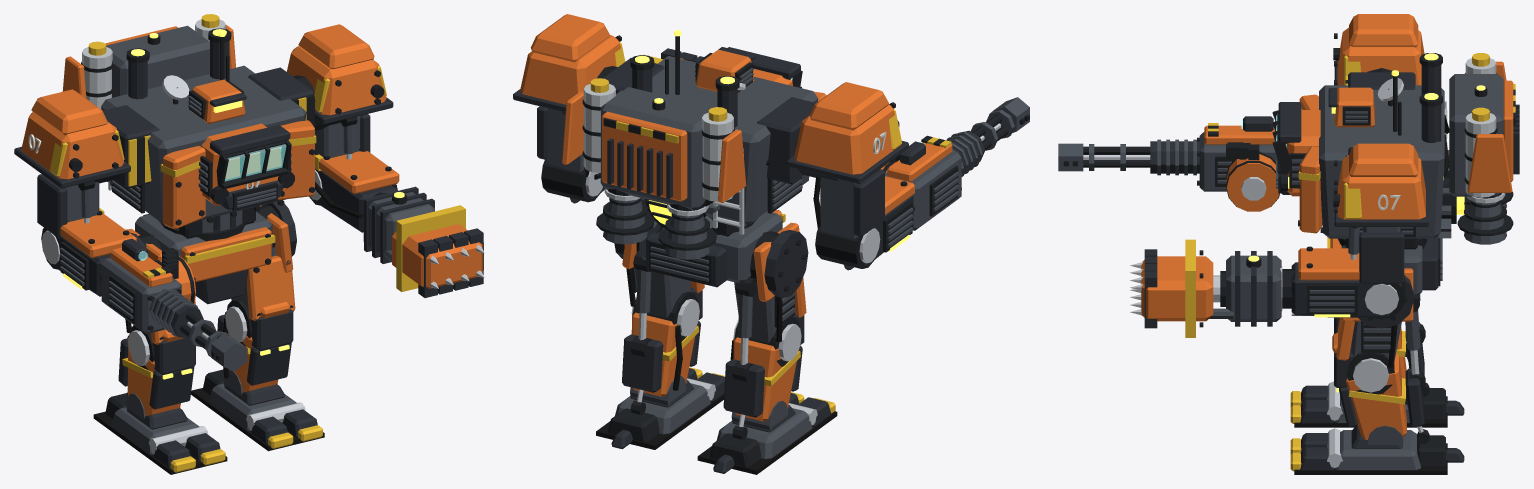
The model's file is mech_mk1_assembled.glb.
3 views of the same model, side by side, from view 1: azimuth 30°, elevation 25°; view 2: azimuth 150°, elevation 25°; view 3: azimuth 270°, elevation 25° (orthographic). The views are drawn at different scales.
Parts seen in each view (by area): view 1: core, pack_body, armor_pauldron_R, armor_pauldron_L, ram_fist, armor_chest_R, armor_pelvis, armor_pauldron_top_R, armor_pauldron_top_L, armor_forearm_L, armor_thigh_L, armor_forearm_R (+63 smaller); view 2: core, pack_body, armor_pauldron_R, armor_pack_cover, armor_pauldron_L, shoulder_block_R, armor_pauldron_top_R, armor_pauldron_top_L, pack_fins, pelvis, hip_servo_R, shin_R (+50 smaller); view 3: core, ram_fist, pack_body, armor_pauldron_L, ram_housing, armor_bicep_L, armor_pauldron_R, armor_pauldron_top_L, foot_L, armor_pauldron_top_R, fin_L, shin_L (+48 smaller).
Boxes of the visible parts, x1=… form: core: x1=101, y1=65, x2=306, y2=227; pack_body: x1=106, y1=25, x2=209, y2=97; armor_pauldron_R: x1=21, y1=112, x2=124, y2=179; armor_pauldron_L: x1=286, y1=46, x2=386, y2=115; ram_fist: x1=392, y1=224, x2=483, y2=288; armor_chest_R: x1=163, y1=146, x2=205, y2=229; armor_pelvis: x1=181, y1=227, x2=271, y2=282; armor_pauldron_top_R: x1=31, y1=89, x2=107, y2=135; armor_pauldron_top_L: x1=298, y1=24, x2=374, y2=68; armor_forearm_L: x1=319, y1=151, x2=399, y2=194; armor_thigh_L: x1=246, y1=255, x2=295, y2=321; armor_forearm_R: x1=60, y1=213, x2=136, y2=258; core: x1=616, y1=56, x2=818, y2=225; pack_body: x1=600, y1=87, x2=712, y2=210; armor_pauldron_R: x1=794, y1=104, x2=901, y2=174; armor_pack_cover: x1=602, y1=111, x2=687, y2=201; armor_pauldron_L: x1=520, y1=35, x2=620, y2=104; shoulder_block_R: x1=757, y1=97, x2=815, y2=184; armor_pauldron_top_R: x1=809, y1=82, x2=888, y2=130; armor_pauldron_top_L: x1=530, y1=14, x2=610, y2=62; pack_fins: x1=607, y1=138, x2=672, y2=198; pelvis: x1=639, y1=211, x2=782, y2=283; hip_servo_R: x1=764, y1=230, x2=808, y2=297; shin_R: x1=733, y1=337, x2=798, y2=421; core: x1=1319, y1=85, x2=1444, y2=238; ram_fist: x1=1141, y1=256, x2=1213, y2=321; pack_body: x1=1449, y1=74, x2=1503, y2=196; armor_pauldron_L: x1=1337, y1=155, x2=1425, y2=219; ram_housing: x1=1226, y1=255, x2=1281, y2=321; armor_bicep_L: x1=1359, y1=232, x2=1404, y2=283; armor_pauldron_R: x1=1337, y1=27, x2=1424, y2=85; armor_pauldron_top_L: x1=1349, y1=143, x2=1418, y2=177; foot_L: x1=1334, y1=430, x2=1420, y2=470; armor_pauldron_top_R: x1=1349, y1=14, x2=1418, y2=47; fin_L: x1=1467, y1=134, x2=1512, y2=192; shin_L: x1=1345, y1=353, x2=1406, y2=439.
Size of what is drawn, in the model's own units: 4.24 by 4.63 by 5.12.
